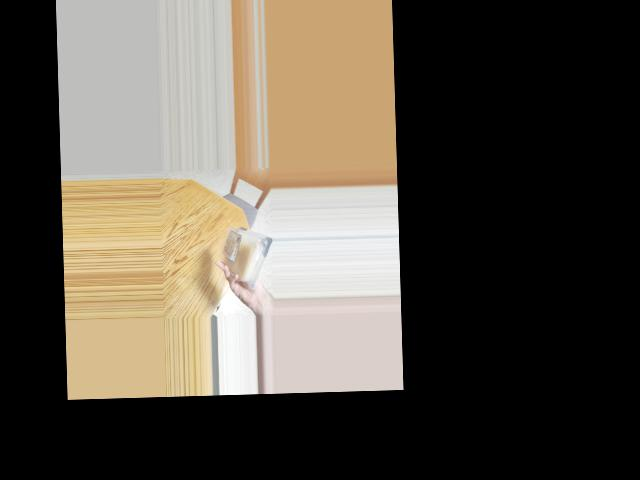cheese: (220, 226, 269, 282)
